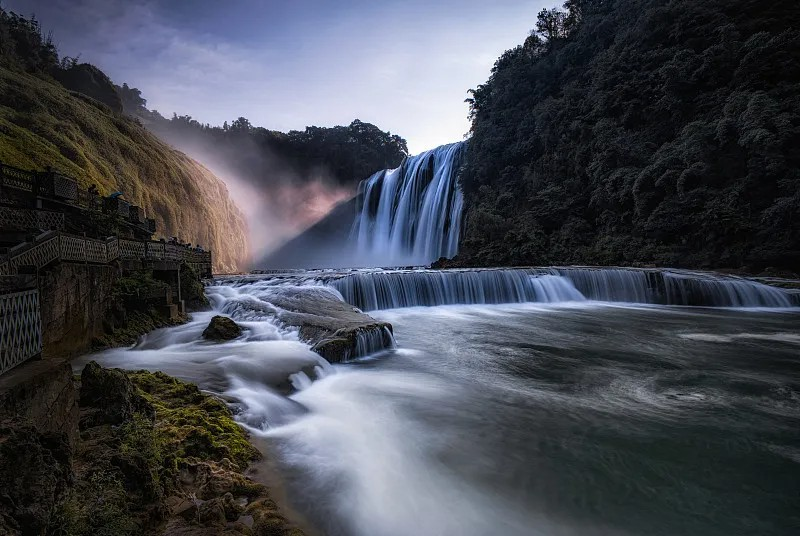Huangguoshu: (352, 142, 463, 265)
